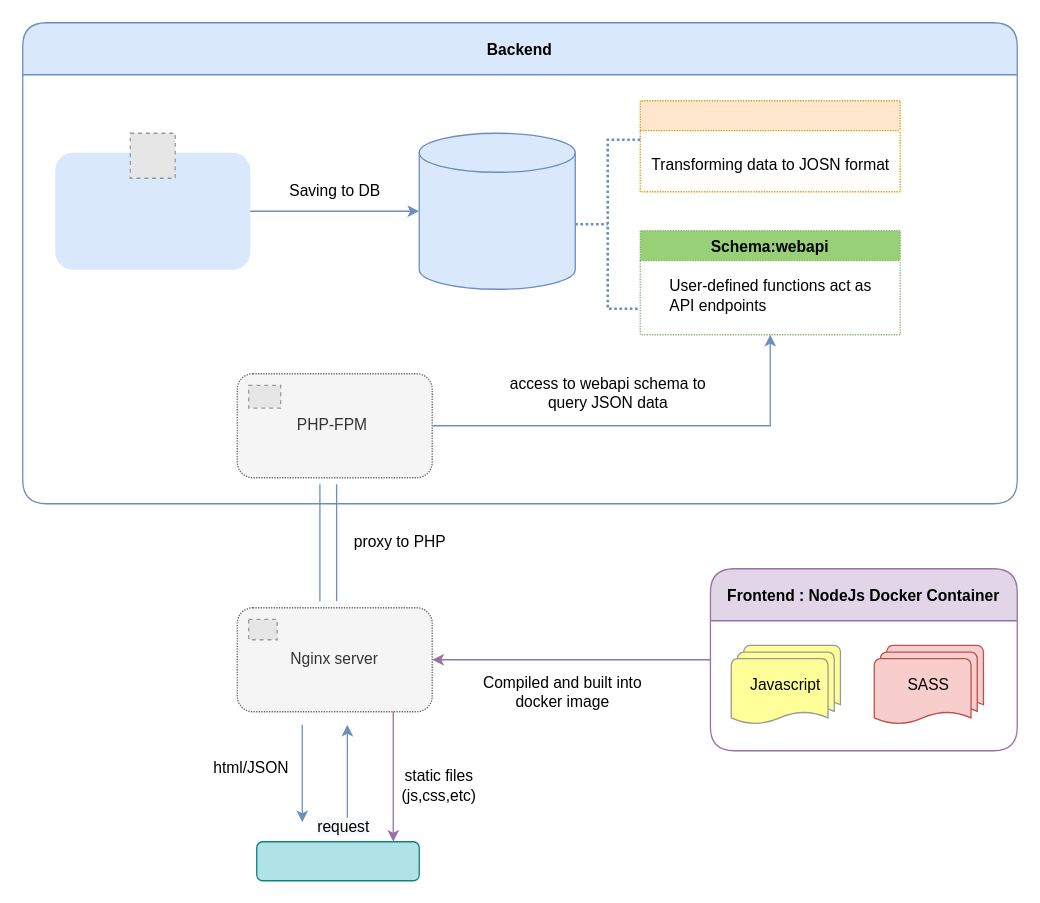
Image size: 1040x903. Some labels were removed from this diagram. Grey dashed boxes stand in for pictures. The box of each missing label's shape, as (x1, y1, x2, y2) in pixels:
Browser: (255, 840, 419, 881)
Internal Logic: (639, 99, 900, 192)
News headlines scraper: (55, 152, 250, 269)
PostgreSQL DB: (418, 132, 575, 289)
